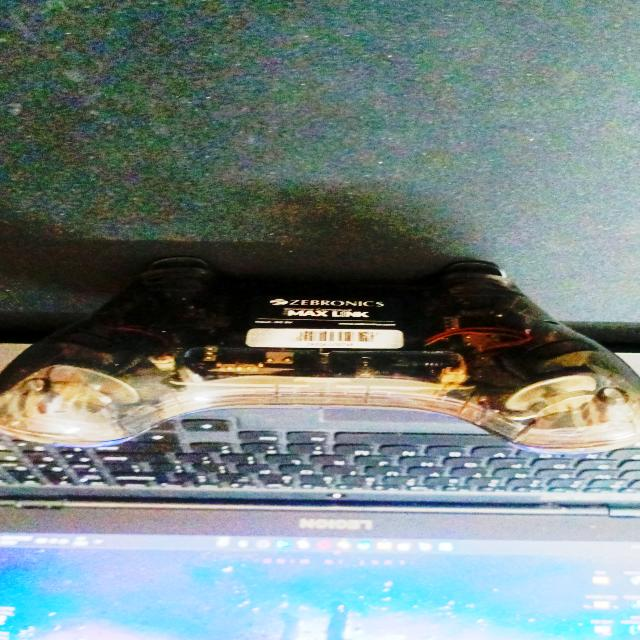gamepad: (0, 256, 640, 456)
